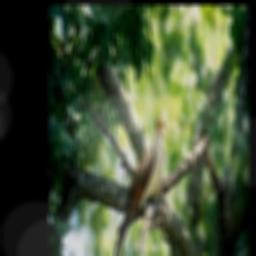Cuckoo: (104, 111, 168, 256)
